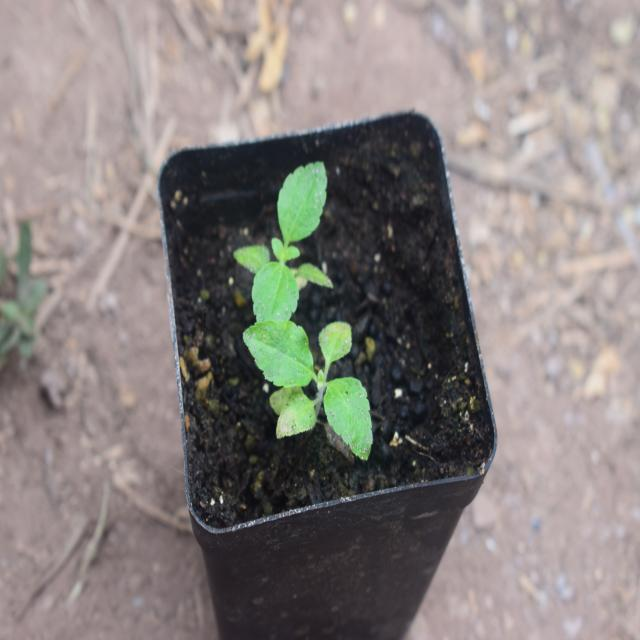billygoat_weed: (220, 293, 371, 459), (236, 138, 326, 336)
